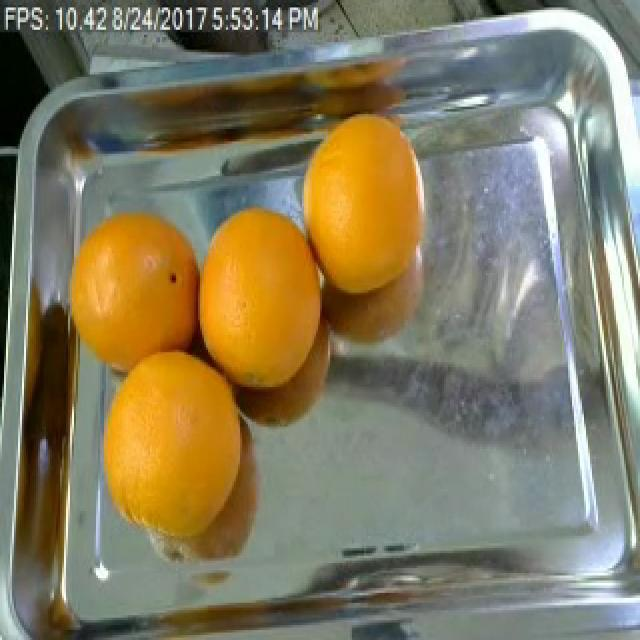Fruit: (282, 92, 448, 317), (186, 183, 336, 397)
